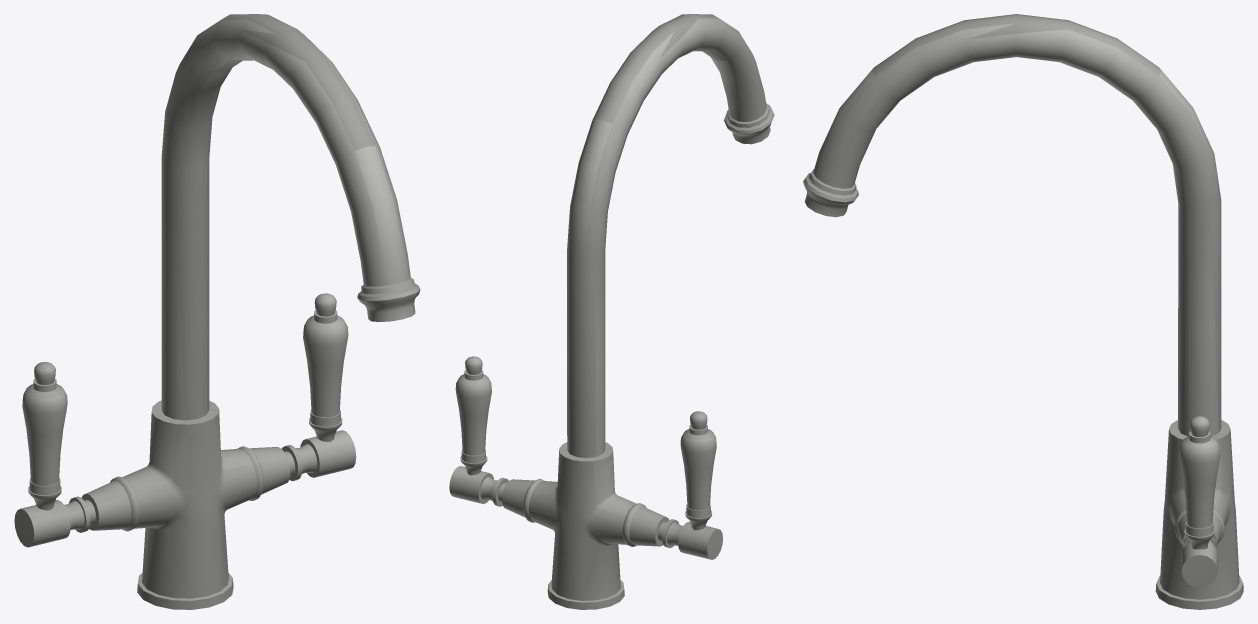
Rendered from tap.glb.
The picture shows the model from 3 angles, left to right: view 1: azimuth 30°, elevation 25°; view 2: azimuth 150°, elevation 25°; view 3: azimuth 270°, elevation 25°; orthographic projection. The views are drawn at different scales.
Parts seen in each view (by area): view 1: tap; view 2: tap; view 3: tap.
Boxes of the visible parts, <box> form: tap: <box>14,14,420,609</box>; tap: <box>449,14,774,609</box>; tap: <box>803,14,1243,609</box>.
Bounding box in the file's own units: 0.2 × 0.3771 × 0.2617.
Materials: 1 (1 with a texture image).
